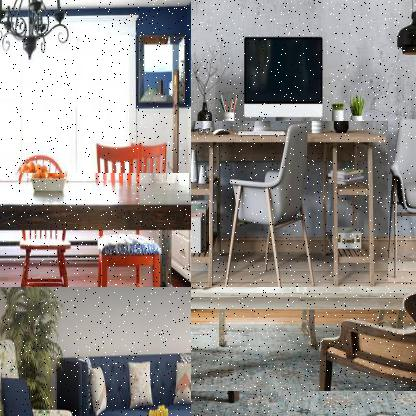table: (191, 121, 390, 286), (191, 287, 415, 392), (0, 173, 190, 286)
